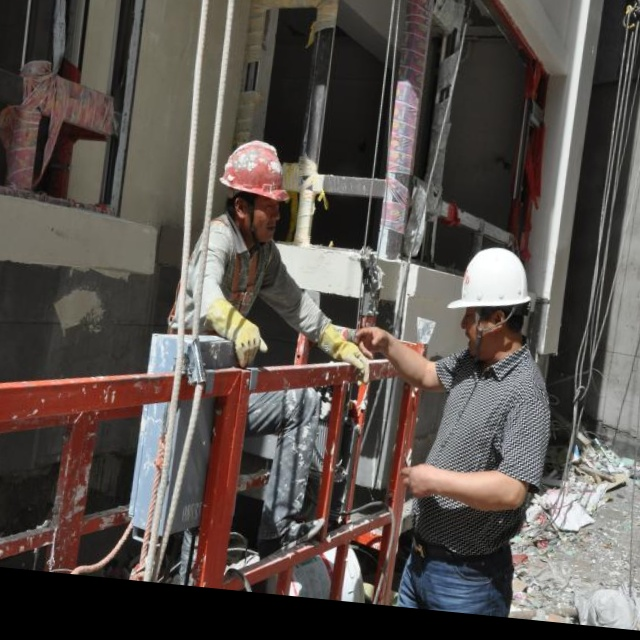Con_Casco: (444, 242, 532, 353), (214, 138, 294, 241)
Sin_Chaleco: (408, 344, 549, 554)
